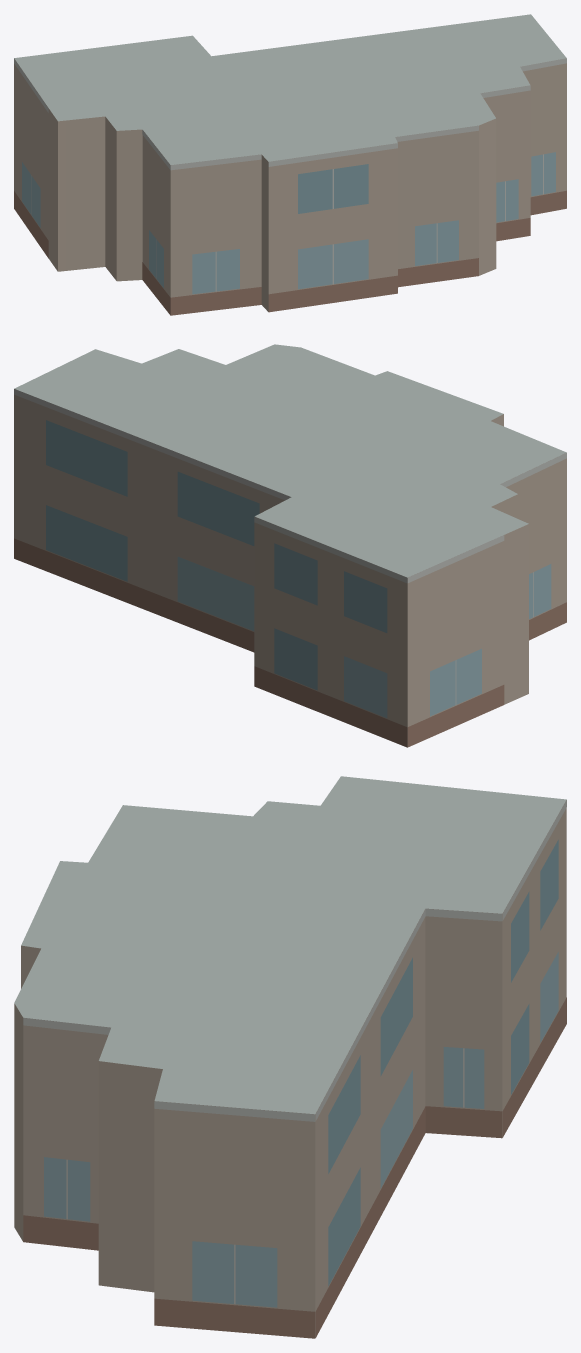
The model's file is survey-upis-32869905.glb.
3 views of the same model, one above another, from view 1: azimuth 30°, elevation 25°; view 2: azimuth 150°, elevation 25°; view 3: azimuth 270°, elevation 25° (orthographic). The views are drawn at different scales.
Visible parts, largest first — view 1: survey-upis-32869905.tmp; view 2: survey-upis-32869905.tmp; view 3: survey-upis-32869905.tmp.
Boxes of the visible parts, left/top/right/bottom form: survey-upis-32869905.tmp: left=14, top=14, right=566, bottom=315; survey-upis-32869905.tmp: left=14, top=344, right=566, bottom=747; survey-upis-32869905.tmp: left=14, top=776, right=566, bottom=1338.
Bounding box in the file's own units: 22.95 × 7.1 × 15.86.
